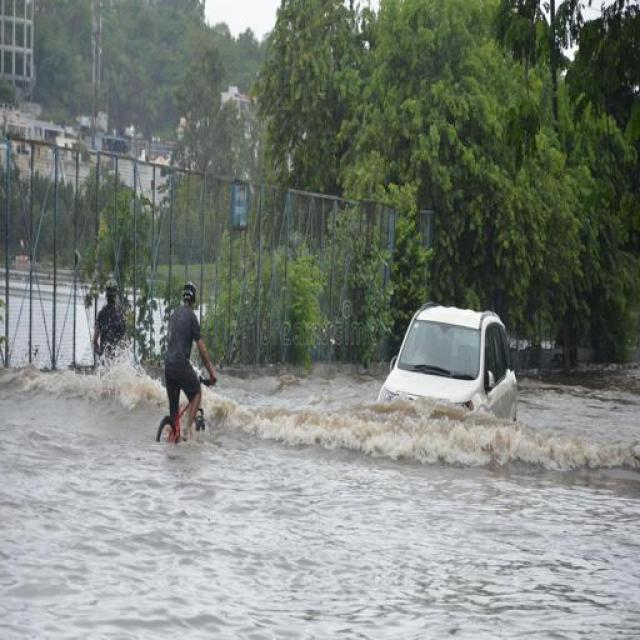puddle: (4, 447, 639, 640), (236, 374, 363, 589), (527, 383, 640, 617), (2, 377, 151, 472)
